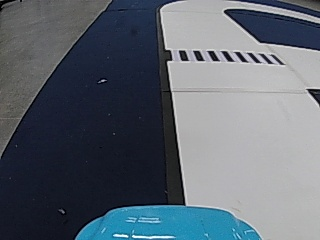CrossWalk: (166, 48, 280, 64)
